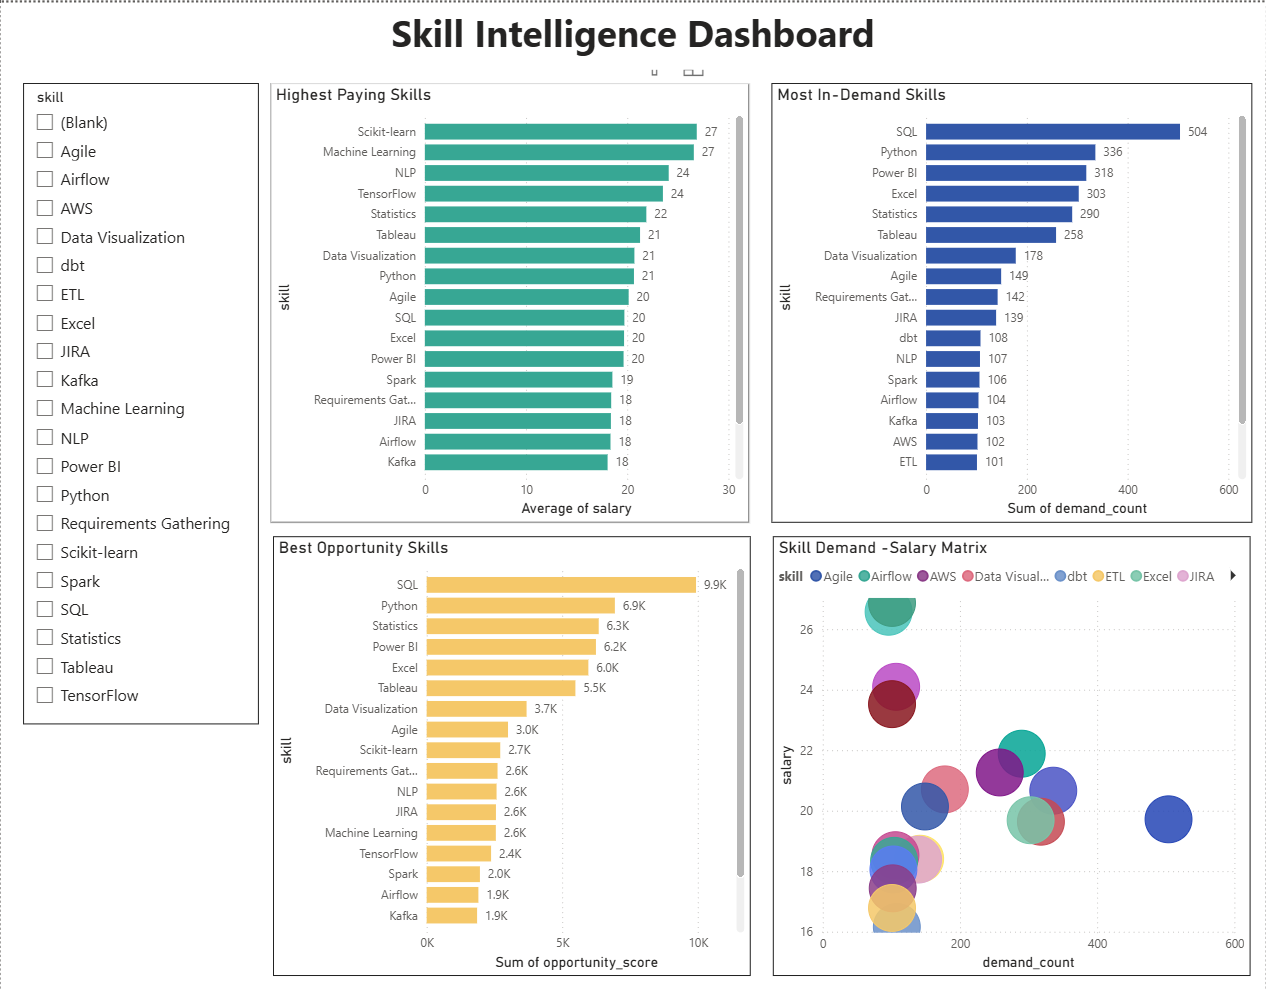

Layout of this report page (visuals, bound fields, positions):
{"tool":"powerbi","page":{"name":"Skill Intelligence","canvas":[1280,1000],"ordinal":1},"visuals":[{"type":"slicer","fields":{"Values":["skill_analysis.skill"]},"box":[22.9,81.4,238.6,648.6],"z":0},{"type":"clusteredBarChart","title":" Highest Paying Skills","fields":{"Category":["skill_analysis.skill"],"Y":["Avg(skill_analysis.salary)"]},"box":[273.3,81.7,485,445],"z":1000},{"type":"clusteredBarChart","title":"Most In-Demand Skills","fields":{"Category":["skill_analysis.skill"],"Y":["Sum(skill_analysis.demand_count)"]},"box":[780,81.7,486.7,445],"z":2000},{"type":"clusteredBarChart","title":"Best Opportunity Skills","fields":{"Category":["skill_analysis.skill"],"Y":["Sum(skill_analysis.opportunity_score)"]},"box":[275,540,483.3,445],"z":3000},{"type":"scatterChart","title":"Skill Demand -Salary Matrix","fields":{"X":["skill_analysis.demand_count"],"Y":["skill_analysis.salary"],"Size":["CountNonNull(skill_analysis.opportunity_score)"],"Series":["skill_analysis.skill"]},"box":[781.7,540,483.3,445],"z":4000},{"type":"textbox","box":[10,0,1270,68.3],"z":5000}]}

Visuals, with their boxes in screenshot pixels (x1, y1, x2, y2), scaled from the page's 1280x1000 canvas onto the 1266x990 screenshot:
slicer - skill_analysis.skill: rect(23, 81, 259, 723)
" Highest Paying Skills" clusteredBarChart: rect(270, 81, 750, 521)
"Most In-Demand Skills" clusteredBarChart: rect(771, 81, 1253, 521)
"Best Opportunity Skills" clusteredBarChart: rect(272, 535, 750, 975)
"Skill Demand -Salary Matrix" scatterChart: rect(773, 535, 1251, 975)
textbox: rect(10, 0, 1265, 68)
